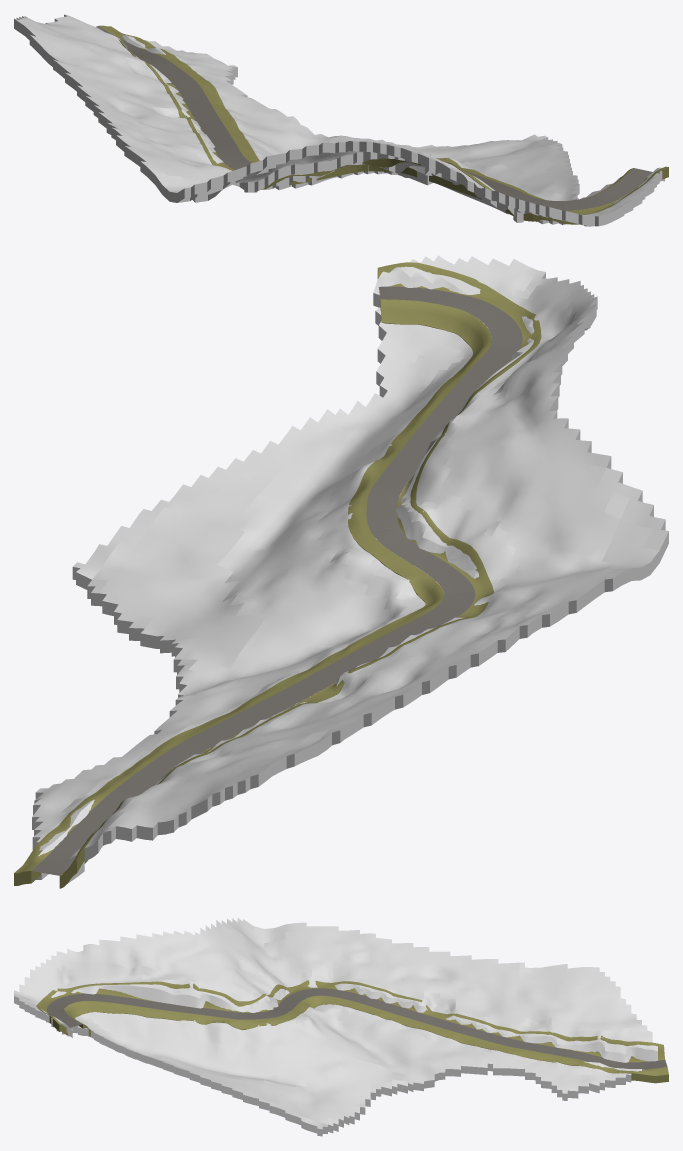
Rendered from conz_104.glb.
The picture shows the model from 3 angles, top to bottom: view 1: azimuth 30°, elevation 25°; view 2: azimuth 150°, elevation 25°; view 3: azimuth 270°, elevation 25°; orthographic projection. The views are drawn at different scales.
Visible parts, largest first — view 1: terrain104, road104, verge104R, verge104L; view 2: terrain104, road104, verge104L, verge104R; view 3: terrain104, road104, verge104L, verge104R.
Boxes of the visible parts, bbox=[...] form: terrain104: bbox=[14, 14, 664, 226]; road104: bbox=[96, 26, 652, 210]; verge104R: bbox=[116, 36, 668, 224]; verge104L: bbox=[99, 25, 633, 200]; terrain104: bbox=[32, 255, 668, 883]; road104: bbox=[31, 286, 522, 875]; verge104L: bbox=[14, 299, 491, 885]; verge104R: bbox=[59, 262, 541, 888]; terrain104: bbox=[14, 918, 657, 1136]; road104: bbox=[47, 988, 667, 1069]; verge104L: bbox=[64, 995, 668, 1083]; verge104R: bbox=[36, 980, 665, 1062].
Bounding box in the file's own units: 130 × 51.95 × 246.
